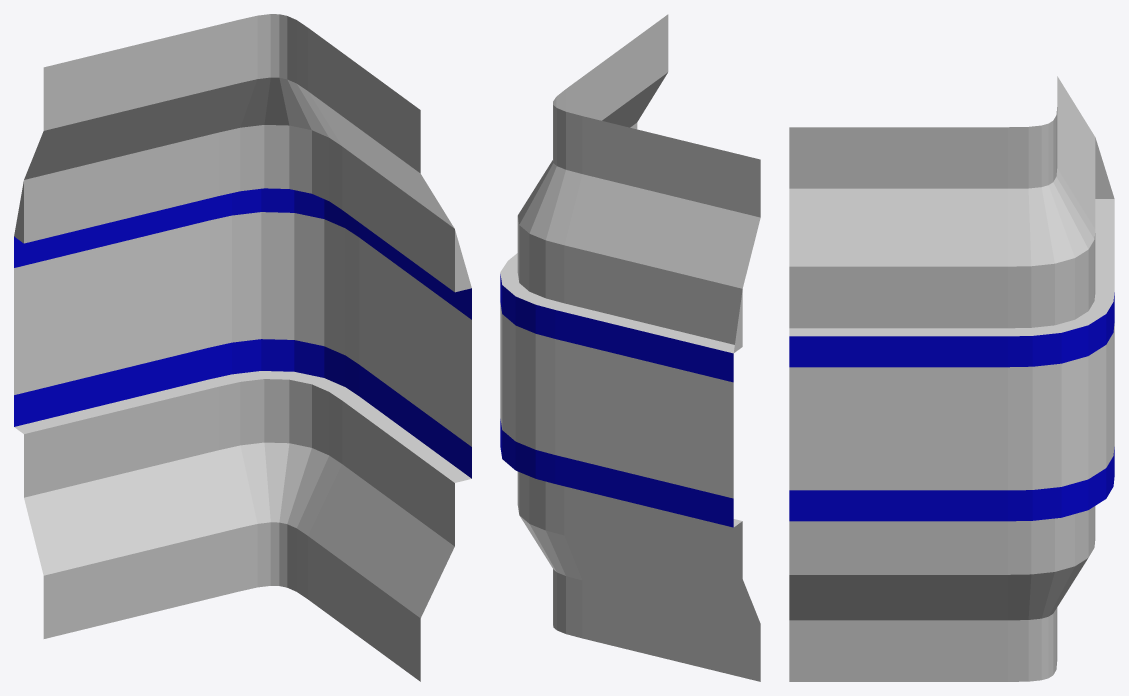
File: Corner.fbx
3 views of the same model, side by side, from view 1: azimuth 30°, elevation 25°; view 2: azimuth 150°, elevation 25°; view 3: azimuth 270°, elevation 25° (orthographic). The views are drawn at different scales.
Visible parts, largest first — view 1: Corner; view 2: Corner; view 3: Corner.
Part boxes in pixels (x1=…): Corner: x1=14, y1=14, x2=471, y2=681; Corner: x1=500, y1=14, x2=760, y2=681; Corner: x1=789, y1=76, x2=1114, y2=681.
Size of the model in its own units: 1.06 by 2 by 1.06.
